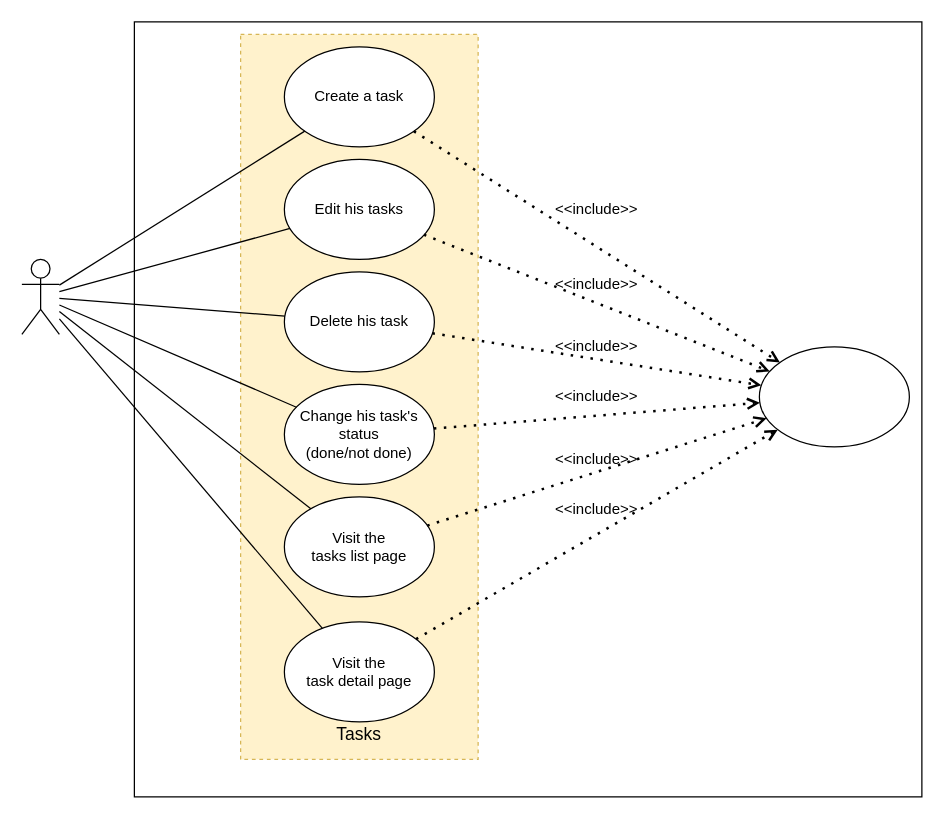
This 944x819 diagram has some shape labels left out. The centre of each missing label's shape, as x and y in pixels:
Login: the point at 833,396
User: the point at 40,296
